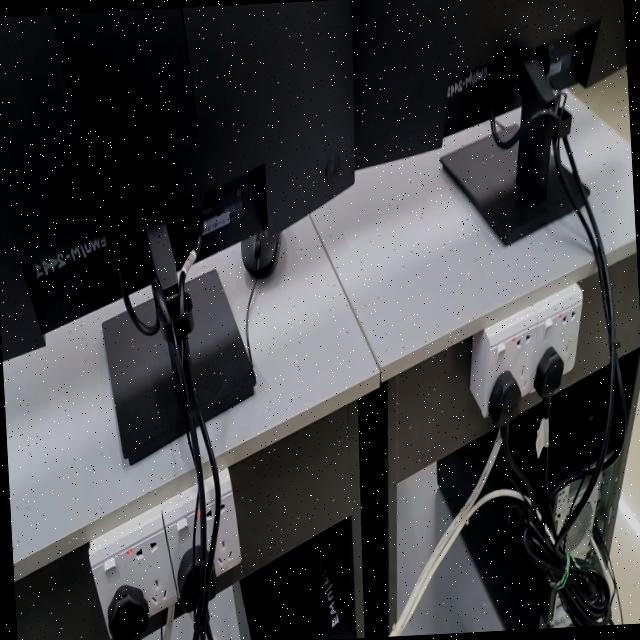Cpu: (435, 376, 620, 631), (232, 534, 356, 640)
Monitor: (0, 0, 354, 463), (352, 0, 627, 244)
Mouse: (240, 229, 281, 278)
